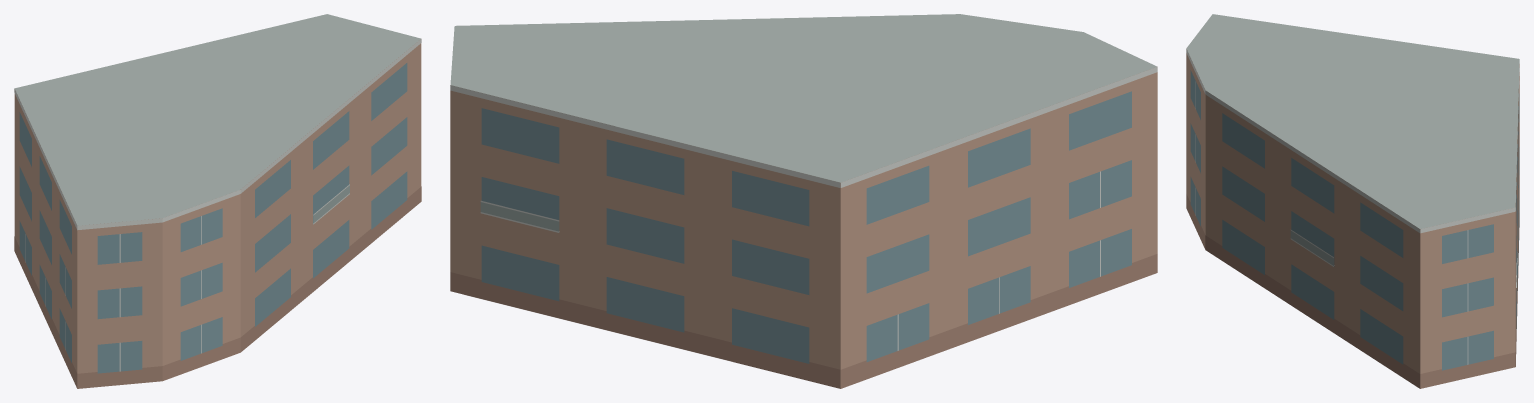
The model's file is survey-upis-32996845.glb.
3 renders of one model, left to right at view 1: azimuth 30°, elevation 25°; view 2: azimuth 150°, elevation 25°; view 3: azimuth 270°, elevation 25°, orthographic. The views are drawn at different scales.
Parts seen in each view (by area): view 1: survey-upis-32996845.tmp; view 2: survey-upis-32996845.tmp; view 3: survey-upis-32996845.tmp.
Part boxes in pixels (x1=…): survey-upis-32996845.tmp: x1=14, y1=14, x2=421, y2=388; survey-upis-32996845.tmp: x1=450, y1=14, x2=1157, y2=388; survey-upis-32996845.tmp: x1=1186, y1=14, x2=1519, y2=388.
Size of the model in its own units: 26.43 by 9.15 by 17.31.
